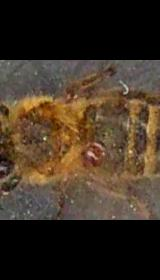varroa_mite: (80, 133, 115, 170)
